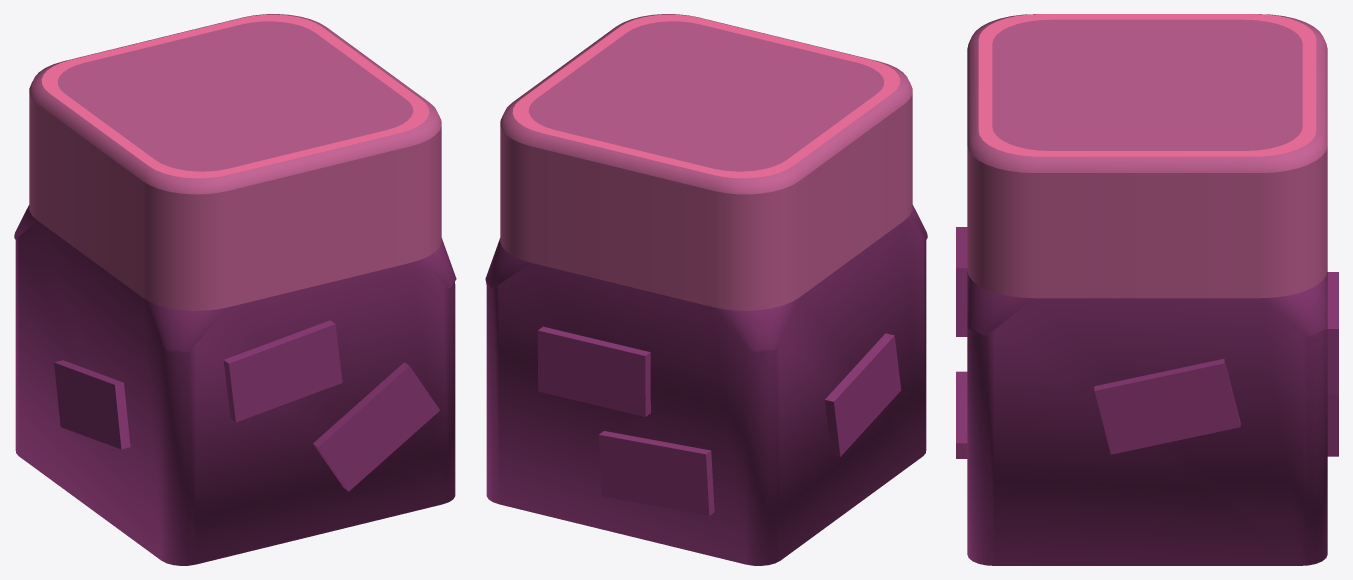
The model's file is Wall_Tile_Block2.fbx.
The picture shows the model from 3 angles, left to right: view 1: azimuth 30°, elevation 25°; view 2: azimuth 150°, elevation 25°; view 3: azimuth 270°, elevation 25°; orthographic projection. The views are drawn at different scales.
Parts seen in each view (by area): view 1: Wall_Tile_Block2; view 2: Wall_Tile_Block2; view 3: Wall_Tile_Block2.
Boxes of the visible parts, left/top/right/bottom form: Wall_Tile_Block2: left=14, top=14, right=456, bottom=565; Wall_Tile_Block2: left=485, top=14, right=927, bottom=565; Wall_Tile_Block2: left=956, top=14, right=1338, bottom=565.
Size of the model in its own units: 2.13 by 2.13 by 2.48.
